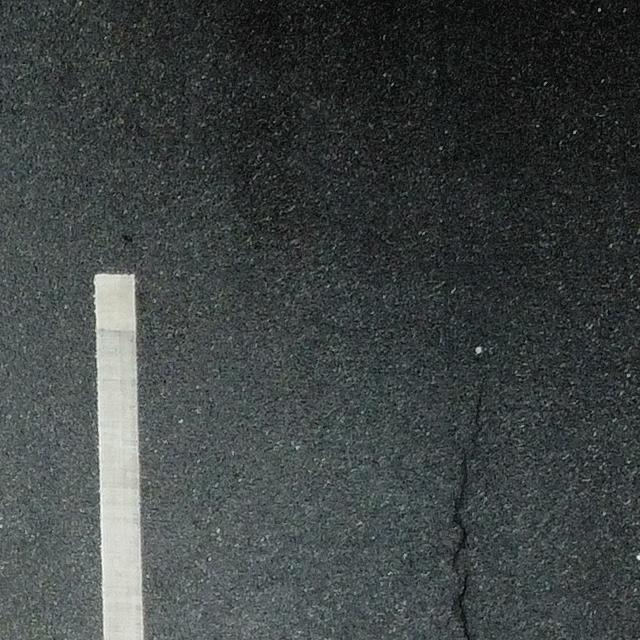LongitudinalCrack: (449, 377, 492, 640)
